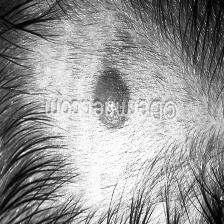Unclassified: (92, 70, 126, 96), (95, 114, 129, 132)
